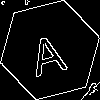A: (25, 25, 69, 77)
